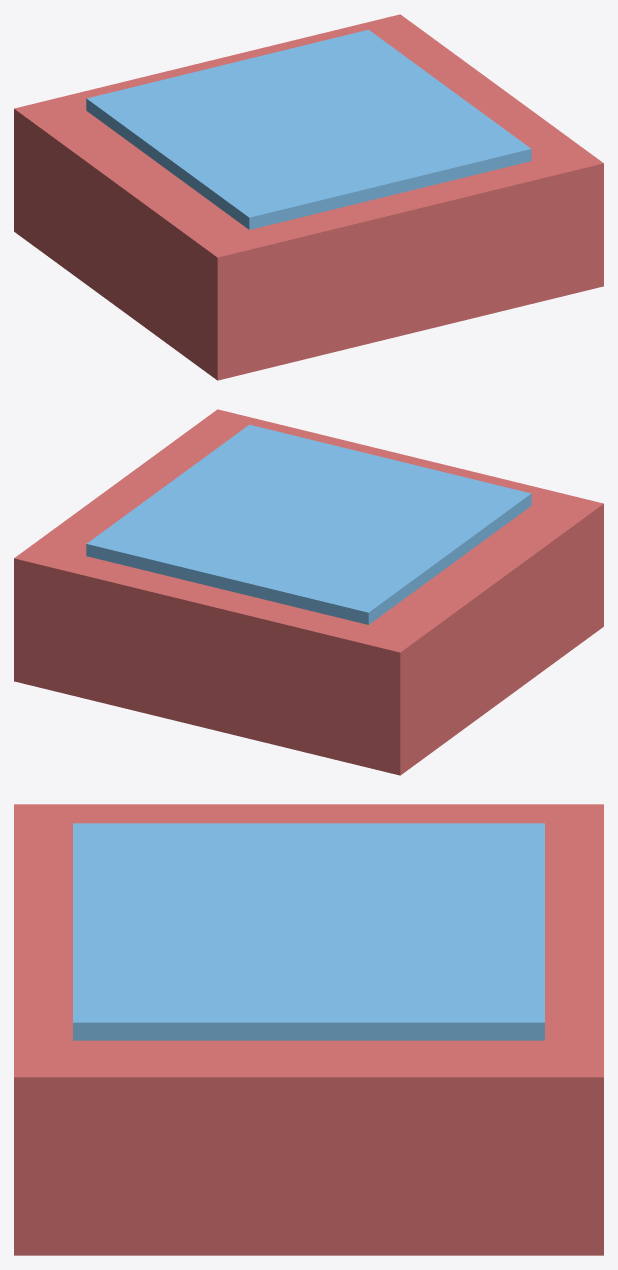
The model's file is Prop_Pet_AMF_Bowl_V1.glb.
3 renders of one model, top to bottom at view 1: azimuth 30°, elevation 25°; view 2: azimuth 150°, elevation 25°; view 3: azimuth 270°, elevation 25°, orthographic. The views are drawn at different scales.
Visible parts, largest first — view 1: Prop_Pet_AMF_Bowl_V1; view 2: Prop_Pet_AMF_Bowl_V1; view 3: Prop_Pet_AMF_Bowl_V1.
Part boxes in pixels (bbox=[...]): Prop_Pet_AMF_Bowl_V1: bbox=[14, 14, 603, 380]; Prop_Pet_AMF_Bowl_V1: bbox=[14, 409, 603, 775]; Prop_Pet_AMF_Bowl_V1: bbox=[14, 804, 603, 1255].
Size of the model in its own units: 0.3287 by 0.11 by 0.3.
